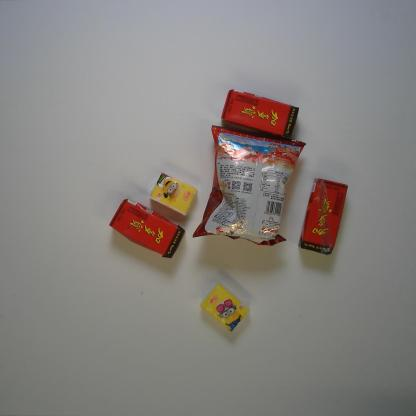Drink: (108, 198, 187, 260), (218, 88, 301, 138), (297, 176, 347, 257)
Puffed Food: (191, 121, 306, 248)
Tissue: (198, 284, 250, 334), (148, 170, 198, 218)
